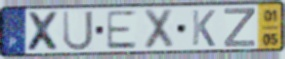E: (104, 9, 139, 51)
K: (191, 9, 217, 48)
U: (61, 9, 95, 52)
X: (26, 10, 63, 52), (142, 7, 175, 51)
Z: (222, 7, 257, 49)
